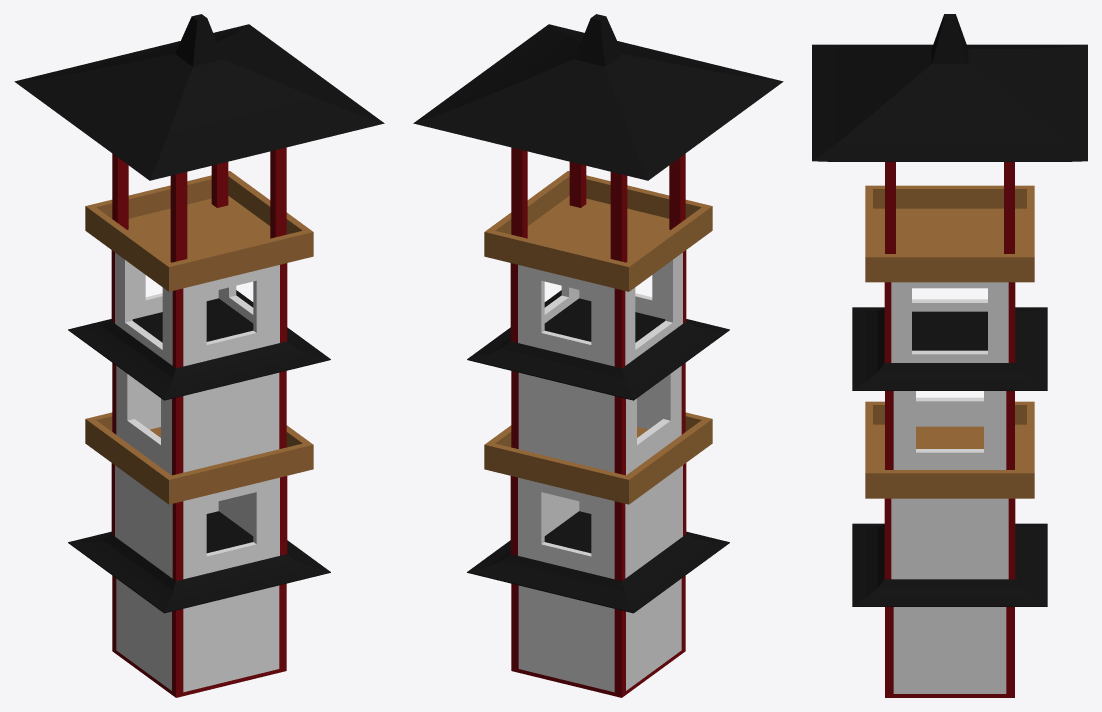
The model's file is torony.glb.
The picture shows the model from 3 angles, left to right: view 1: azimuth 30°, elevation 25°; view 2: azimuth 150°, elevation 25°; view 3: azimuth 270°, elevation 25°; orthographic projection.
Visible parts, largest first — view 1: Cube; view 2: Cube; view 3: Cube.
Boxes of the visible parts, x1,y1,x2,y2 form: Cube: (14,14,384,697); Cube: (413,14,783,697); Cube: (812,14,1087,697).
Size of what is drawn, in the model's own units: 17.46 by 45.7 by 17.46.
